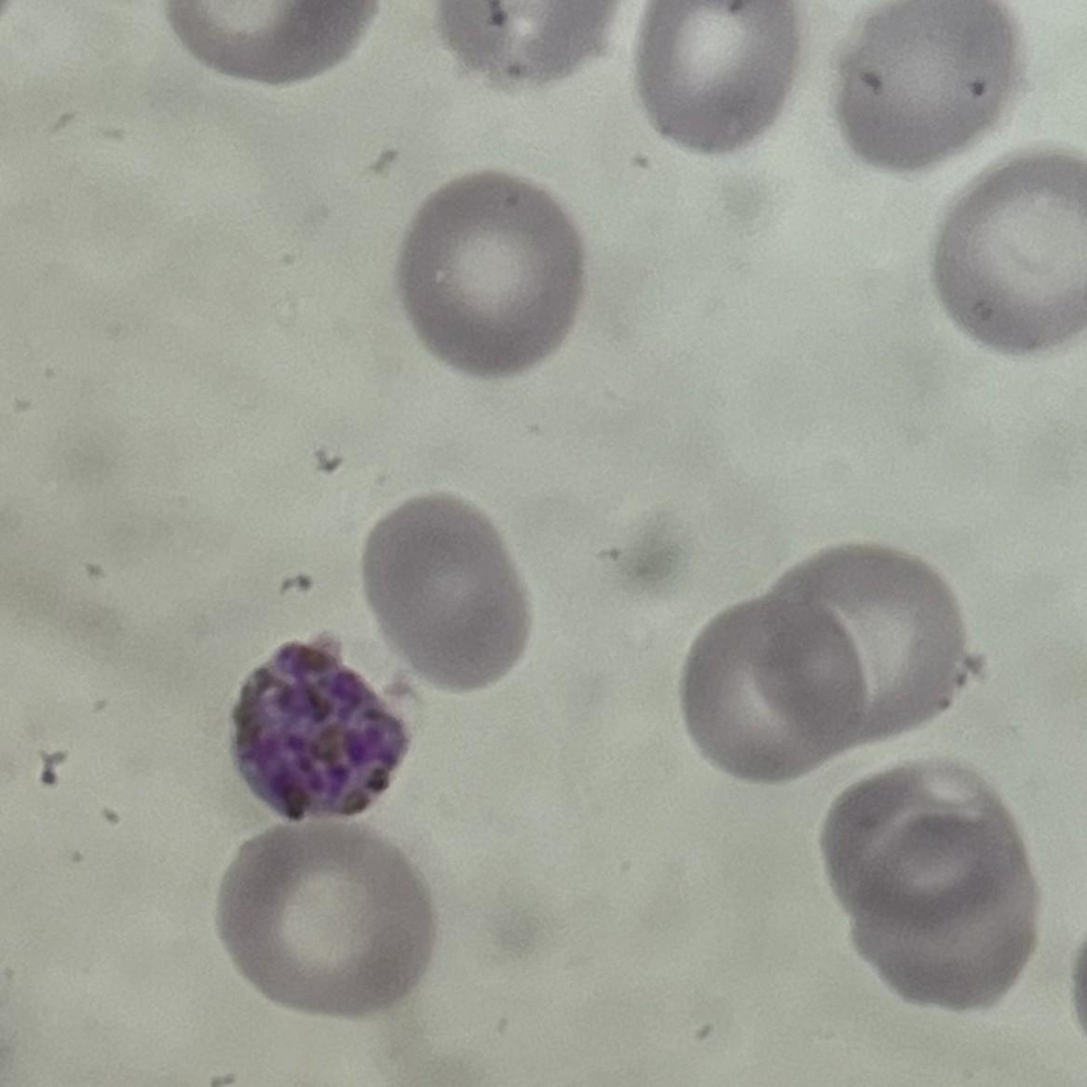Infected: (229, 634, 411, 820)
Uninfected: (680, 542, 965, 779), (816, 759, 1034, 1007), (216, 822, 438, 1017), (394, 173, 580, 372), (366, 494, 535, 695), (931, 151, 1084, 349), (841, 0, 1018, 167), (637, 0, 799, 152)
